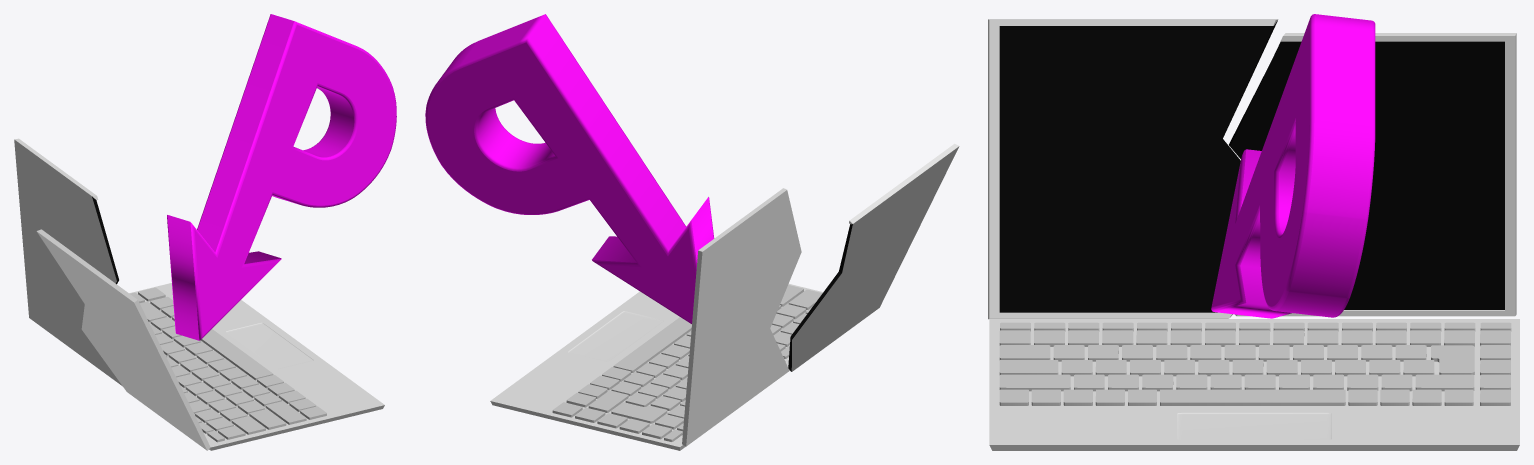
3 renders of one model, left to right at view 1: azimuth 30°, elevation 25°; view 2: azimuth 150°, elevation 25°; view 3: azimuth 270°, elevation 25°, orthographic. The views are drawn at different scales.
Parts seen in each view (by area): view 1: P, screen_right, keyboard, screen_left, PC_hontai; view 2: P, screen_right, screen_left, keyboard, PC_hontai; view 3: screen_left, screen_right, keyboard, P, PC_hontai.
Boxes of the visible parts, x1,y1,x2,y2 form: P: (167, 14, 396, 340); screen_right: (14, 138, 122, 386); keyboard: (130, 287, 326, 442); screen_left: (36, 229, 210, 450); PC_hontai: (129, 283, 384, 450); P: (425, 14, 714, 323); screen_right: (682, 188, 801, 446); screen_left: (788, 143, 959, 371); keyboard: (552, 285, 822, 441); PC_hontai: (490, 284, 823, 450); screen_left: (988, 19, 1278, 319); screen_right: (1229, 33, 1516, 316); keyboard: (999, 322, 1511, 405); P: (1211, 14, 1375, 318); PC_hontai: (989, 319, 1519, 450).
Size of the model in its own units: 1141 by 901 by 962.
